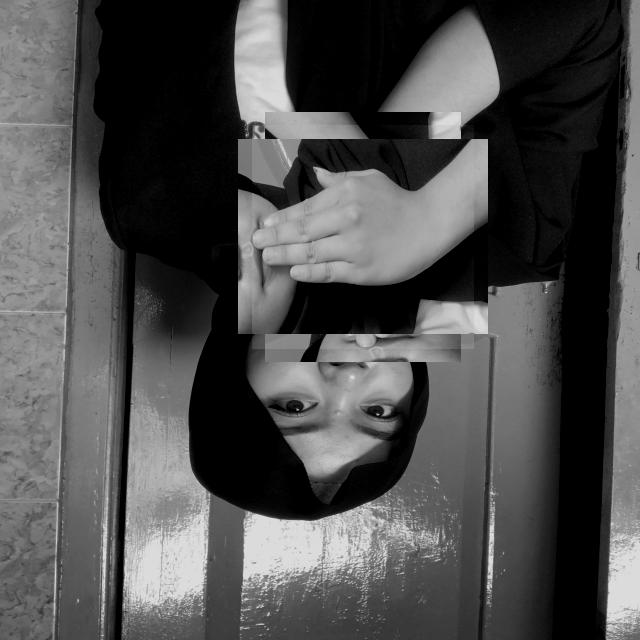ganteng: (252, 125, 474, 349)
